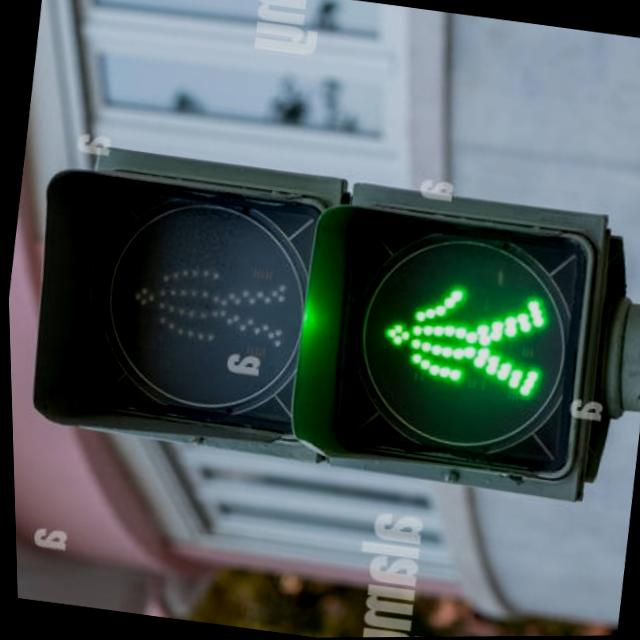green_light: (358, 266, 568, 415)
